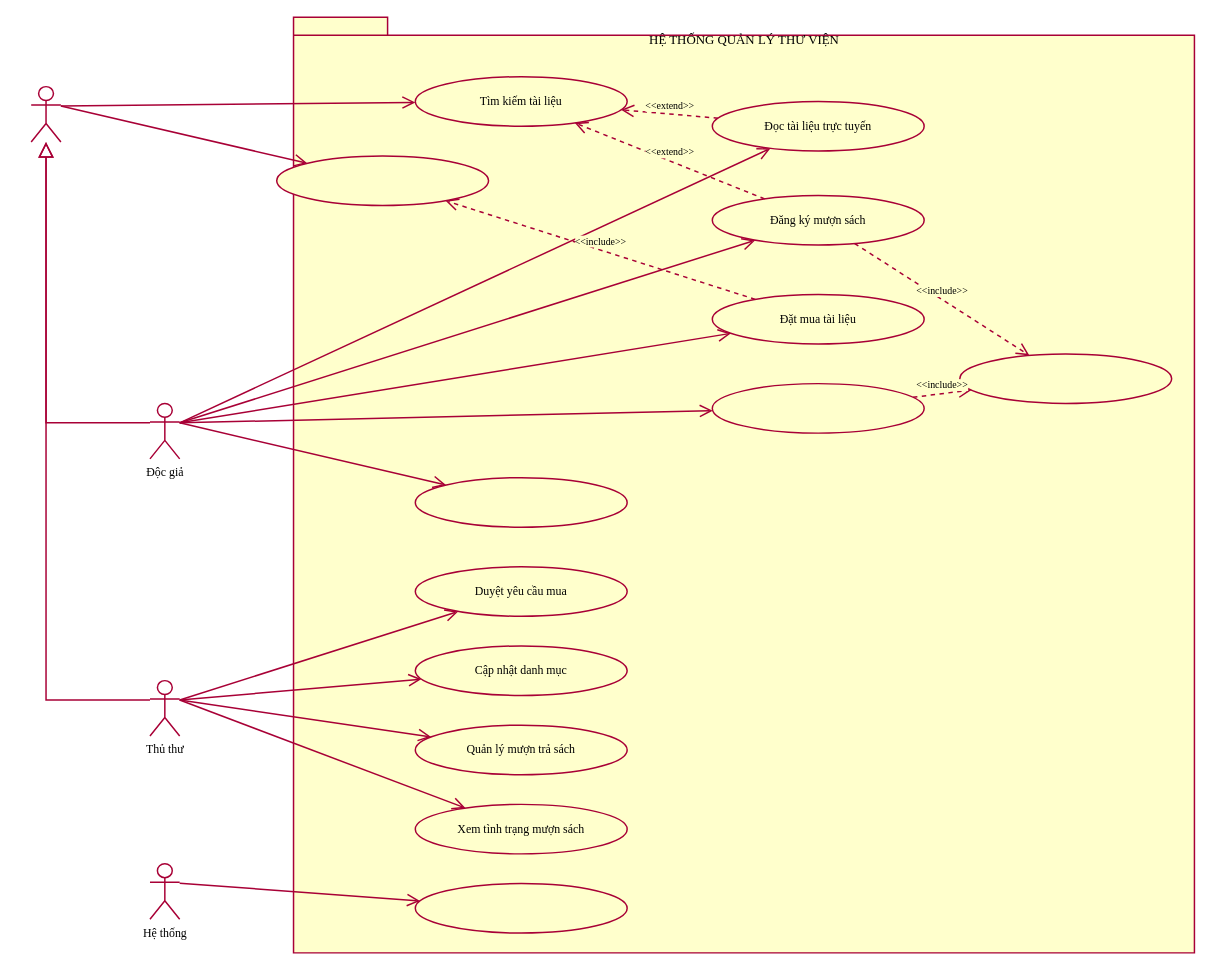
Some shapes in this 1213 by 971 pixel diagram are drawn without their labels. The centre of each missing label's shape, as x and y in pixels:
"Gửi email nhắc nhở" belongs at (x=520, y=907).
"Người dùng" belongs at (x=45, y=113).
"Nhập mã thẻ thư viện" belongs at (x=1065, y=378).
"Tài liệu điện tử" belongs at (x=817, y=407).
"Đăng ký tài khoản" belongs at (x=520, y=501).
"Đăng nhập" belongs at (x=382, y=180).
